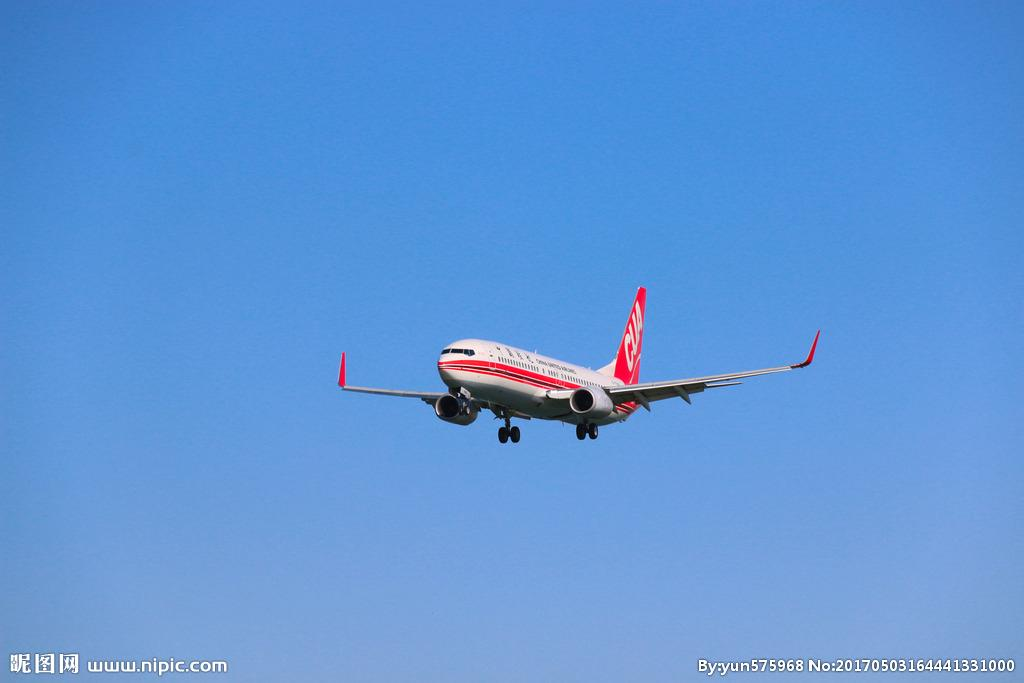airplane: (333, 262, 832, 447)
